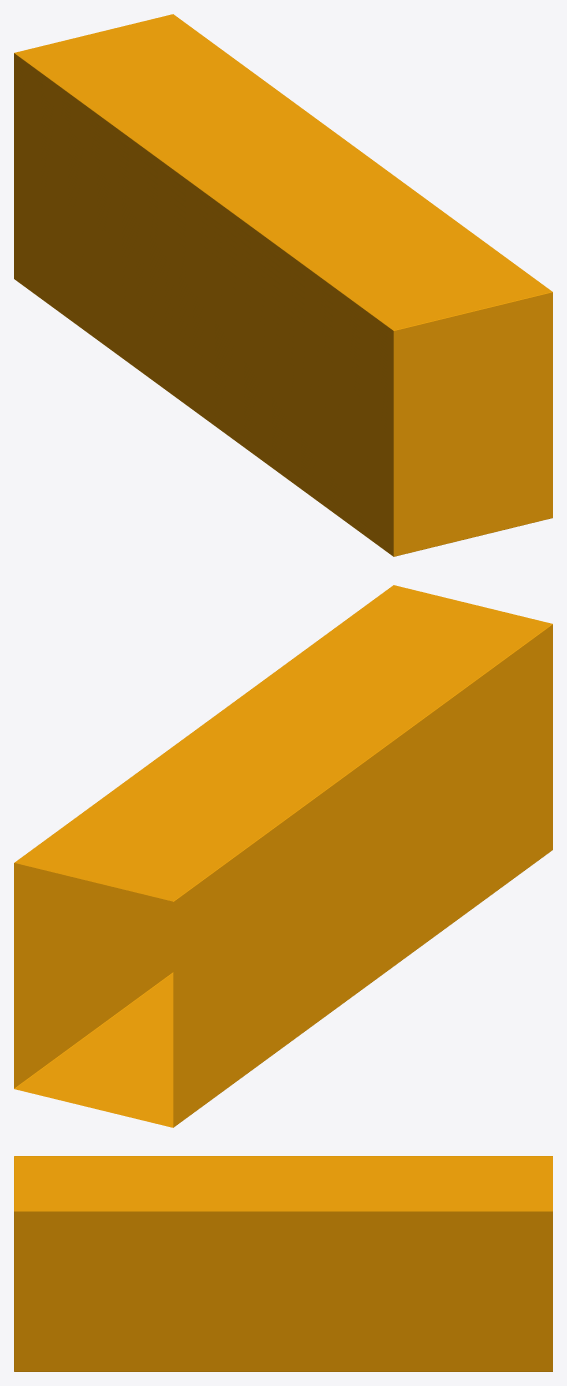
The model's file is ng_portal_occ_03.obj.
3 renders of one model, top to bottom at view 1: azimuth 30°, elevation 25°; view 2: azimuth 150°, elevation 25°; view 3: azimuth 270°, elevation 25°, orthographic. The views are drawn at different scales.
Visible parts, largest first — view 1: occ_obj_Cube.000; view 2: occ_obj_Cube.000; view 3: occ_obj_Cube.000.
Boxes of the visible parts, box(x1,y1,x2,y2) form: occ_obj_Cube.000: box(14, 14, 552, 556); occ_obj_Cube.000: box(14, 585, 552, 1127); occ_obj_Cube.000: box(14, 1156, 552, 1371).
Size of the model in its own units: 1.47 by 1.99 by 6.06.
